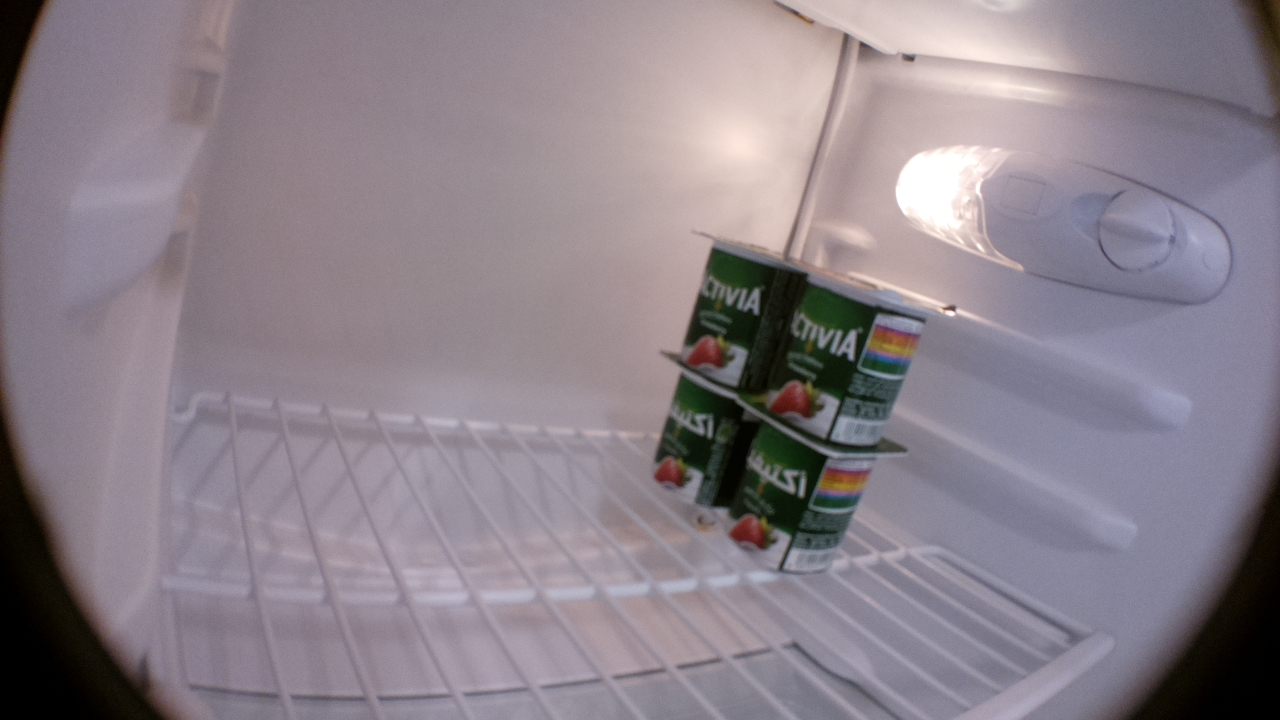yoghurt: (725, 399, 909, 573), (763, 272, 934, 447), (678, 223, 807, 395), (649, 348, 754, 507)
